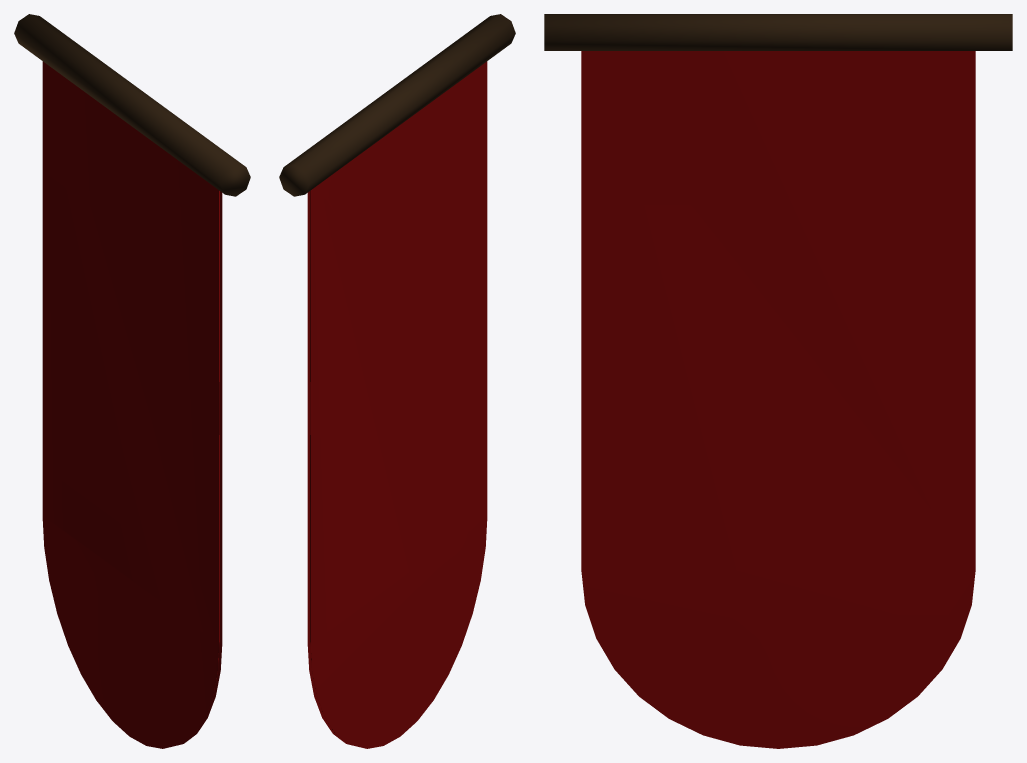
Rendered from flag_3.fbx.
3 renders of one model, left to right at view 1: azimuth 30°, elevation 25°; view 2: azimuth 150°, elevation 25°; view 3: azimuth 270°, elevation 25°, orthographic. The views are drawn at different scales.
Visible parts, largest first — view 1: blue 2, rod; view 2: blue 2, rod; view 3: blue 2, rod.
Part boxes in pixels (left/top/right/bottom): blue 2: left=42, top=61, right=222, bottom=748; rod: left=14, top=14, right=250, bottom=196; blue 2: left=307, top=61, right=487, bottom=748; rod: left=279, top=14, right=515, bottom=196; blue 2: left=581, top=51, right=975, bottom=748; rod: left=544, top=14, right=1012, bottom=50.
Size of the model in its own units: 10 by 205 by 119.
